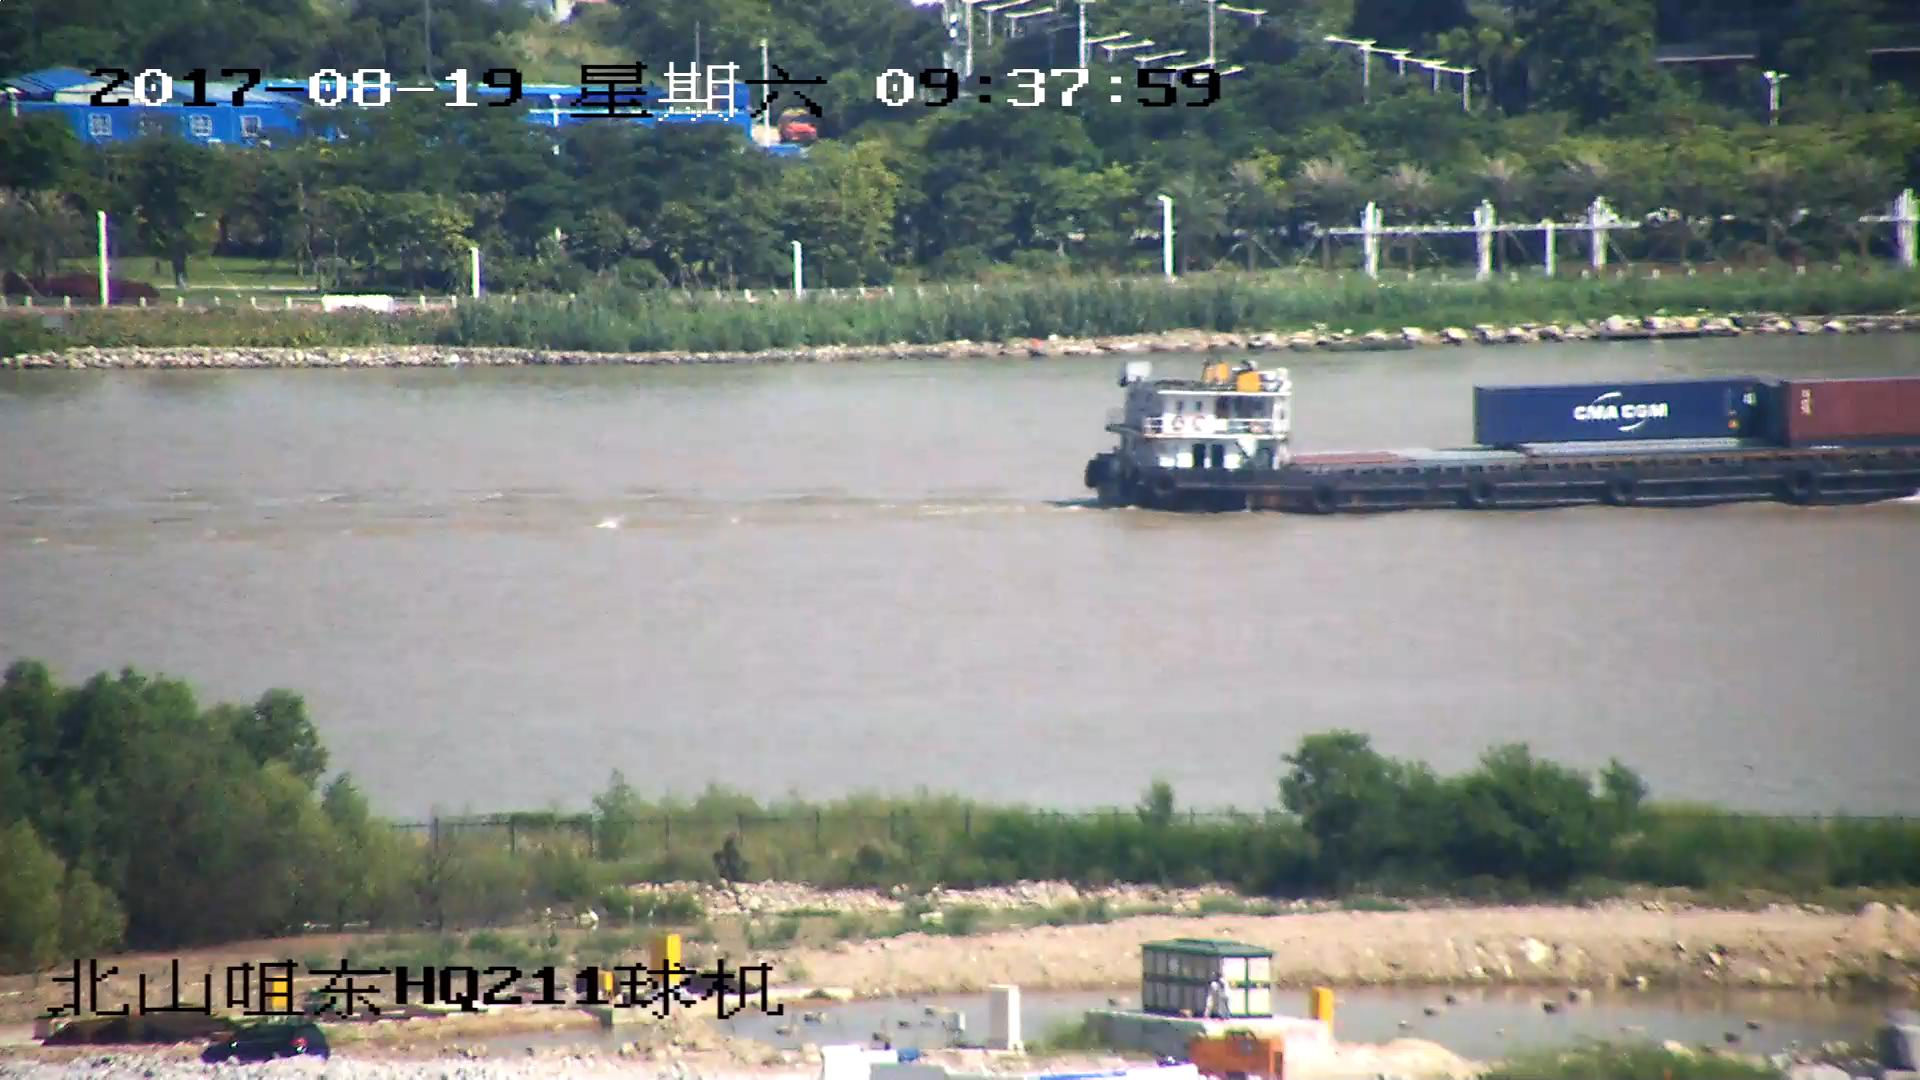container ship: (1086, 354, 1920, 515)
